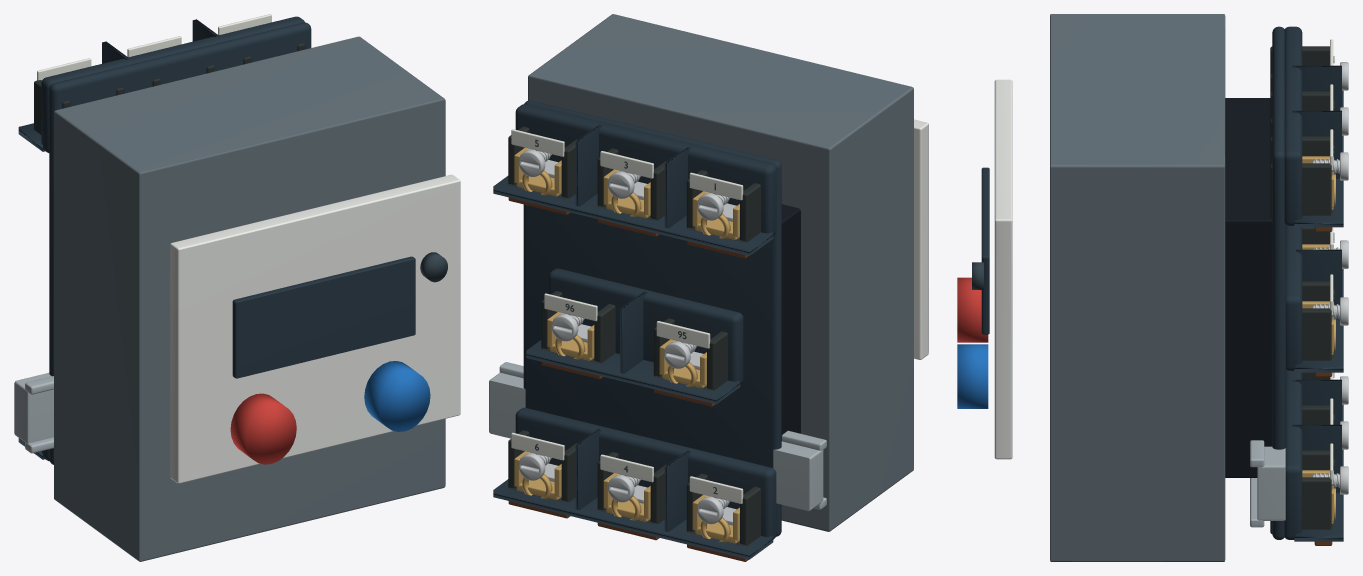
The model's file is overload_default.glb.
3 renders of one model, left to right at view 1: azimuth 30°, elevation 25°; view 2: azimuth 150°, elevation 25°; view 3: azimuth 270°, elevation 25°, orthographic. The views are drawn at different scales.
Parts seen in each view (by area): view 1: part:body, part:cover, part:terminals · Original a463fd81, part:mounting · Original 2a8198d3, part:body.001; view 2: part:body, part:terminals · Original a463fd81, part:mounting · Original 2a8198d3, part:cover, detail:terminal-clamp:96 · Detail moulded engineering polyme, detail:terminal-clamp:95 · Detail moulded engineering polyme, detail:terminal-clamp:1 · Detail moulded engineering polymer, detail:terminal-clamp:2 · Detail moulded engineering polymer, detail:terminal-clamp:3 · Detail moulded engineering polymer, detail:terminal-clamp:6 · Detail moulded engineering polymer, detail:terminal-clamp:4 · Detail moulded engineering polymer, detail:terminal-clamp:5 · Detail moulded engineering polymer (+24 smaller); view 3: part:body, part:terminals · Original a463fd81, part:cover, part:mounting · Original 2a8198d3, detail:terminal-clamp:5 · Detail moulded engineering polymer, detail:terminal-clamp:6 · Detail moulded engineering polymer, detail:terminal-clamp:96 · Detail moulded engineering polyme, detail:terminal-clamp:1 · Detail moulded engineering polymer, detail:terminal-clamp:3 · Detail moulded engineering polymer, detail:terminal-clamp:4 · Detail moulded engineering polymer.
Part boxes in pixels (x1,y1,x2,y2): part:body: [54, 36, 445, 561]; part:cover: [170, 174, 460, 483]; part:terminals · Original a463fd81: [18, 16, 311, 464]; part:mounting · Original 2a8198d3: [14, 373, 53, 453]; part:body.001: [420, 252, 447, 282]; part:body: [528, 14, 913, 531]; part:terminals · Original a463fd81: [493, 100, 781, 559]; part:mounting · Original 2a8198d3: [489, 362, 826, 511]; part:cover: [914, 119, 928, 359]; detail:terminal-clamp:96 · Detail moulded engineering polyme: [541, 291, 615, 363]; detail:terminal-clamp:95 · Detail moulded engineering polyme: [653, 318, 727, 390]; detail:terminal-clamp:1 · Detail moulded engineering polymer: [686, 170, 760, 242]; detail:terminal-clamp:2 · Detail moulded engineering polymer: [686, 473, 760, 546]; detail:terminal-clamp:3 · Detail moulded engineering polymer: [597, 148, 666, 220]; detail:terminal-clamp:6 · Detail moulded engineering polymer: [508, 430, 577, 502]; detail:terminal-clamp:4 · Detail moulded engineering polymer: [597, 452, 666, 524]; detail:terminal-clamp:5 · Detail moulded engineering polymer: [508, 126, 577, 198]; part:body: [1050, 14, 1272, 561]; part:terminals · Original a463fd81: [1272, 26, 1343, 541]; part:cover: [957, 79, 1012, 459]; part:mounting · Original 2a8198d3: [1250, 440, 1285, 527]; detail:terminal-clamp:5 · Detail moulded engineering polymer: [1270, 136, 1332, 218]; detail:terminal-clamp:6 · Detail moulded engineering polymer: [1270, 450, 1332, 533]; detail:terminal-clamp:96 · Detail moulded engineering polyme: [1302, 281, 1332, 360]; detail:terminal-clamp:1 · Detail moulded engineering polymer: [1270, 46, 1329, 92]; detail:terminal-clamp:3 · Detail moulded engineering polymer: [1270, 91, 1329, 137]; detail:terminal-clamp:4 · Detail moulded engineering polymer: [1302, 405, 1329, 424].
Size of the model in its own units: 0.7023 by 0.8012 by 0.7149.
